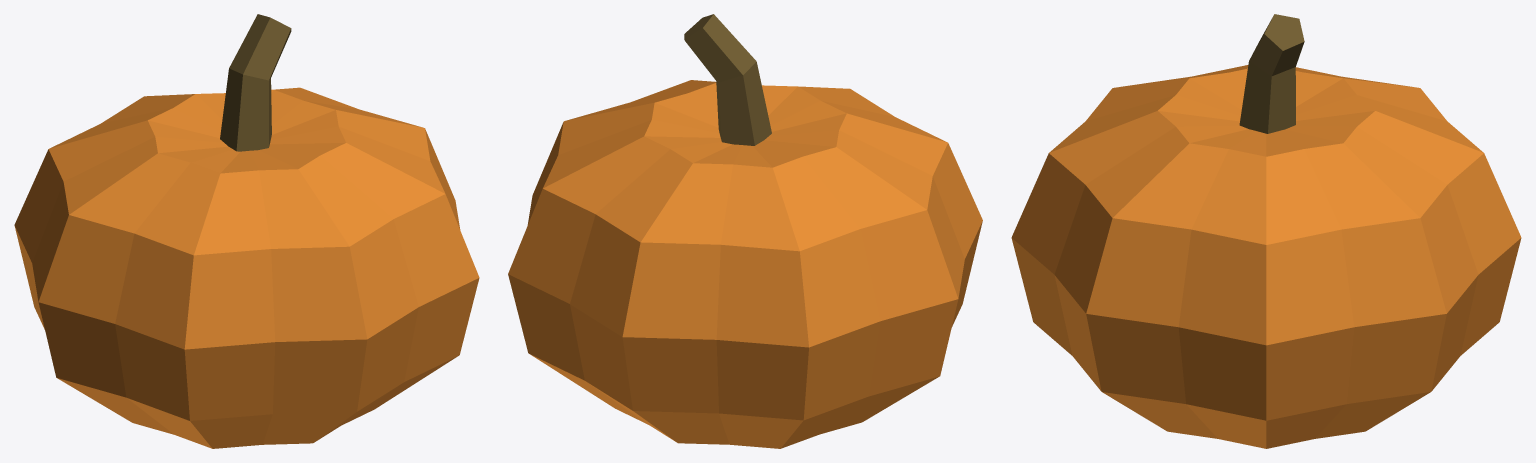
Rendered from perch_pumpkin.glb.
3 renders of one model, left to right at view 1: azimuth 30°, elevation 25°; view 2: azimuth 150°, elevation 25°; view 3: azimuth 270°, elevation 25°, orthographic. The views are drawn at different scales.
Visible parts, largest first — view 1: body; view 2: body; view 3: body.
Boxes of the visible parts, bbox=[...] form: body: bbox=[14, 14, 479, 448]; body: bbox=[508, 14, 982, 448]; body: bbox=[1011, 14, 1521, 448].
Size of the model in its own units: 0.246 by 0.2165 by 0.246.
